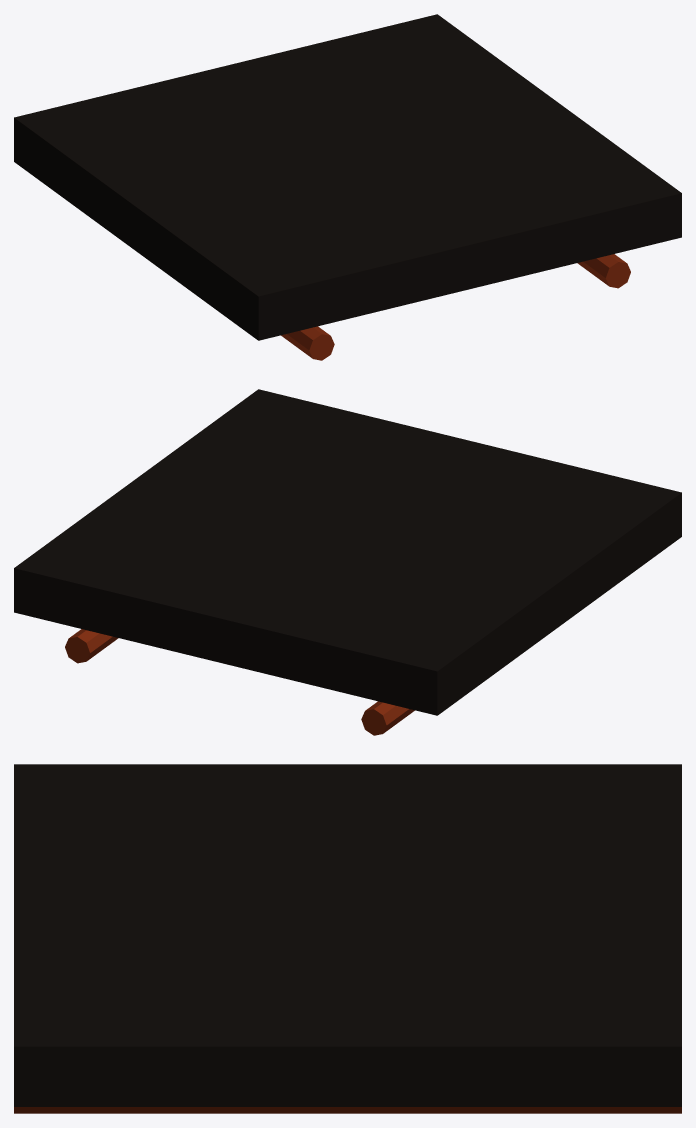
The model's file is SM_Ceiling_2x2_Pipes_Hideout.glb.
The picture shows the model from 3 angles, top to bottom: view 1: azimuth 30°, elevation 25°; view 2: azimuth 150°, elevation 25°; view 3: azimuth 270°, elevation 25°; orthographic projection. The views are drawn at different scales.
Parts seen in each view (by area): view 1: SM_Ceiling_2x2_Pipes_Hideout-col; view 2: SM_Ceiling_2x2_Pipes_Hideout-col; view 3: SM_Ceiling_2x2_Pipes_Hideout-col.
Boxes of the visible parts, x1,y1,x2,y2 form: SM_Ceiling_2x2_Pipes_Hideout-col: (14, 14, 681, 360); SM_Ceiling_2x2_Pipes_Hideout-col: (14, 389, 681, 735); SM_Ceiling_2x2_Pipes_Hideout-col: (14, 764, 681, 1113).
Size of the model in its own units: 2 by 0.36 by 2.
